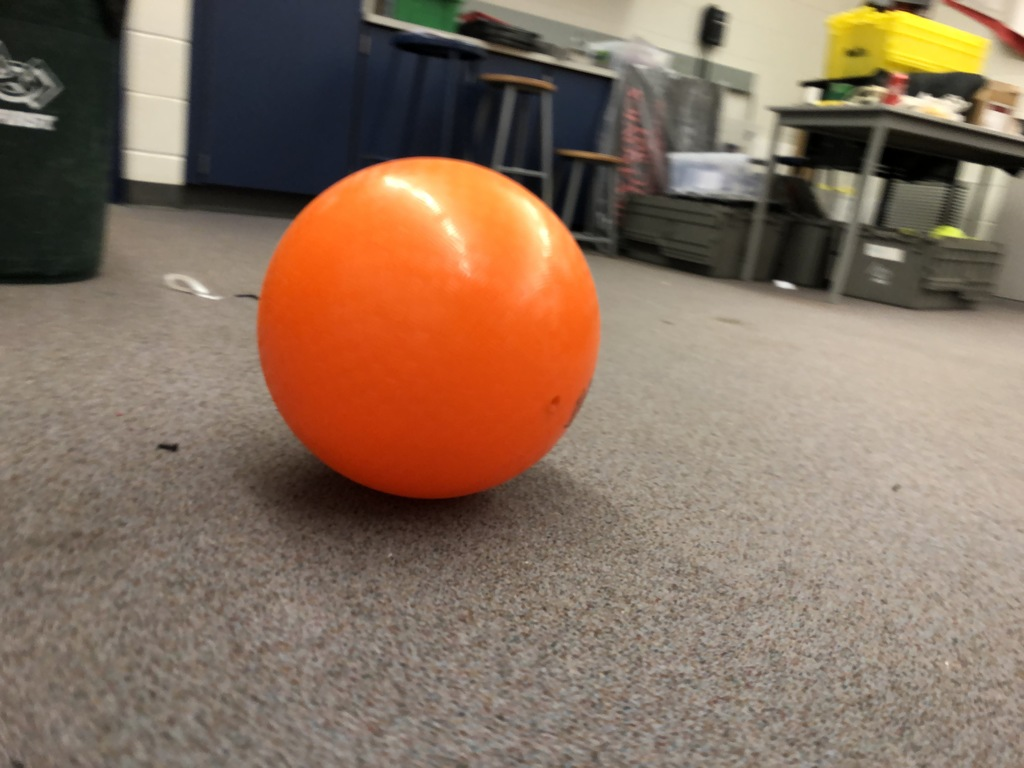cargo: (246, 141, 615, 517)
